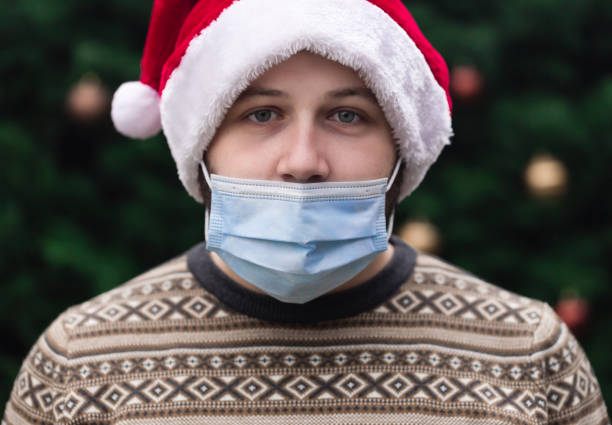mask_weared_incorrect: (189, 29, 403, 296)
